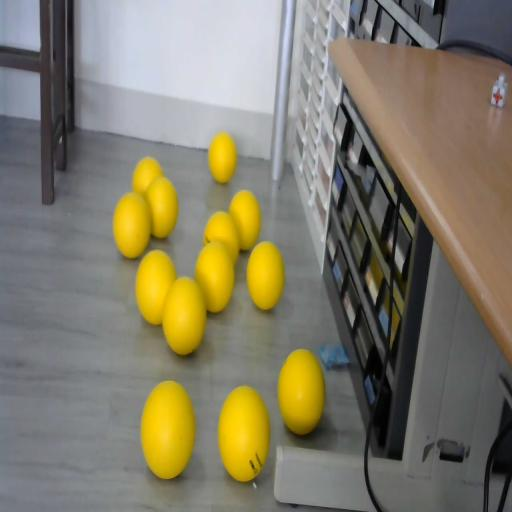FUEL: (140, 378, 196, 480), (216, 384, 271, 482), (277, 348, 325, 434), (135, 249, 177, 324), (194, 240, 236, 312), (246, 240, 285, 310), (112, 192, 152, 258), (228, 190, 262, 250), (146, 176, 178, 238), (208, 132, 236, 182)
